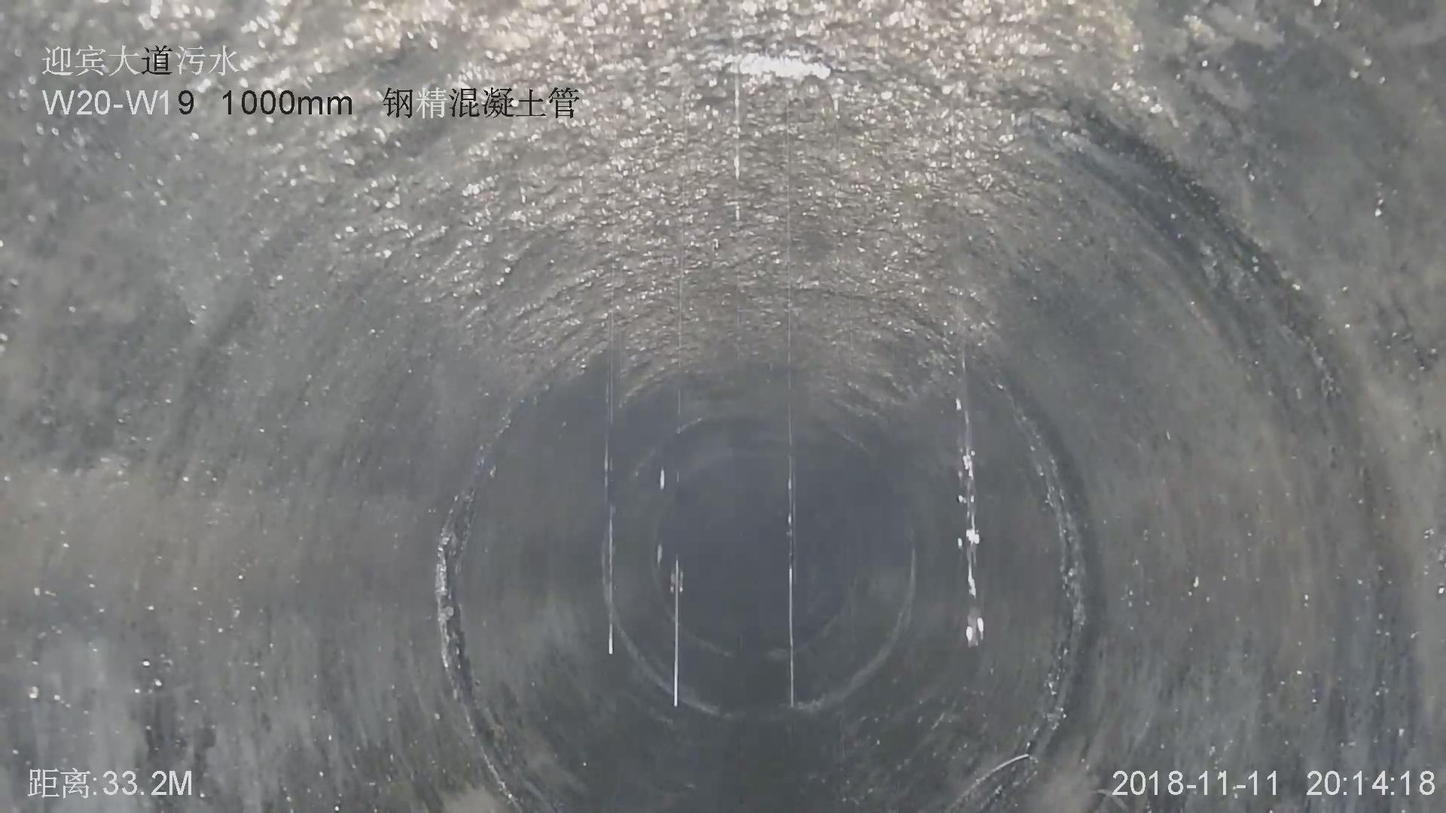JG: (374, 52, 1030, 387)
SL: (567, 21, 1036, 716)
